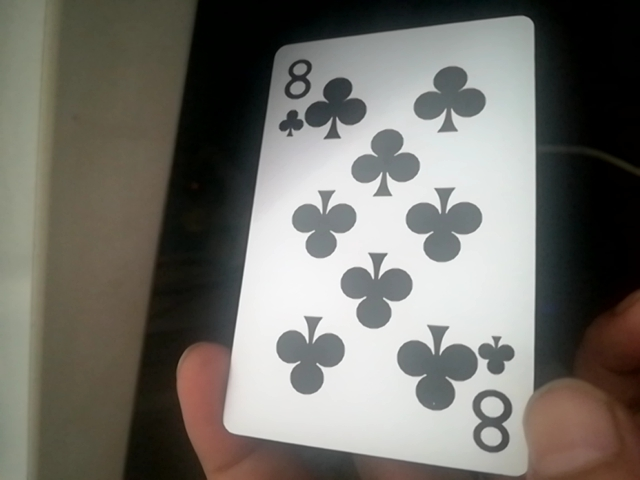mh 8: (213, 18, 546, 480)
